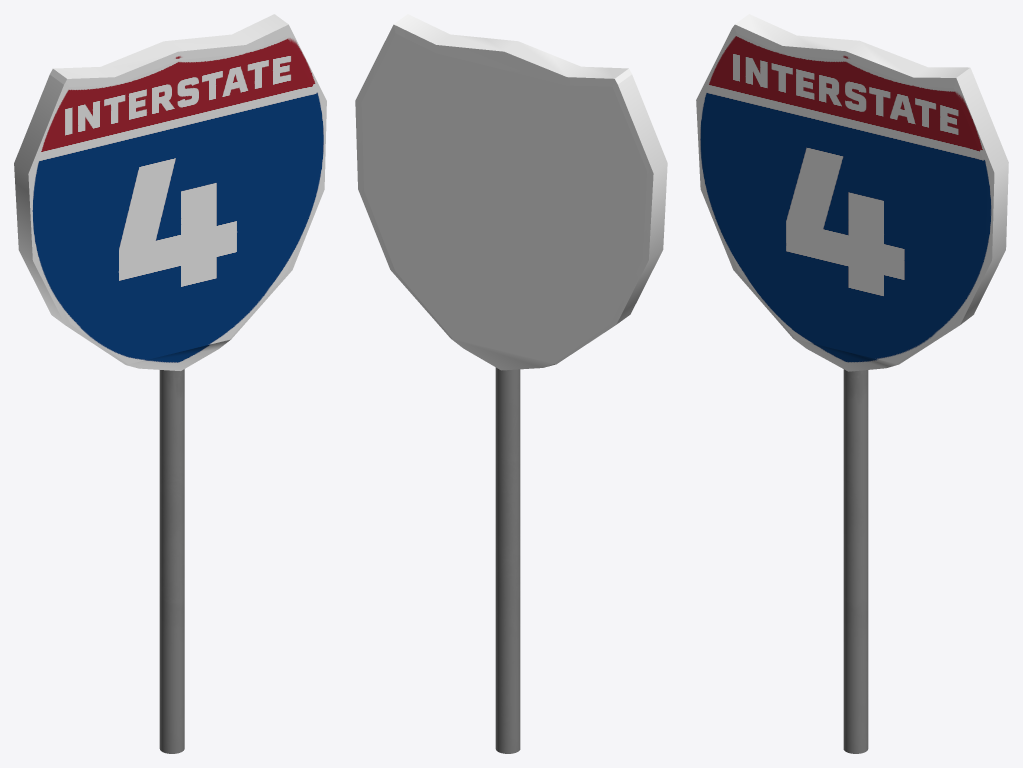
The model's file is I-4_Sign (1).fbx.
The picture shows the model from 3 angles, left to right: view 1: azimuth 30°, elevation 25°; view 2: azimuth 150°, elevation 25°; view 3: azimuth 330°, elevation 25°; orthographic projection.
Visible parts, largest first — view 1: RoadWork_Sign1, Pole6; view 2: RoadWork_Sign1, Pole6; view 3: RoadWork_Sign1, Pole6.
Part boxes in pixels (x1,y1,x2,y2): RoadWork_Sign1: [14, 14, 326, 370]; Pole6: [159, 369, 184, 753]; RoadWork_Sign1: [355, 14, 667, 370]; Pole6: [495, 367, 520, 753]; RoadWork_Sign1: [696, 14, 1008, 371]; Pole6: [843, 369, 868, 753].
Size of the model in its own units: 4.61 by 10.37 by 0.386.
